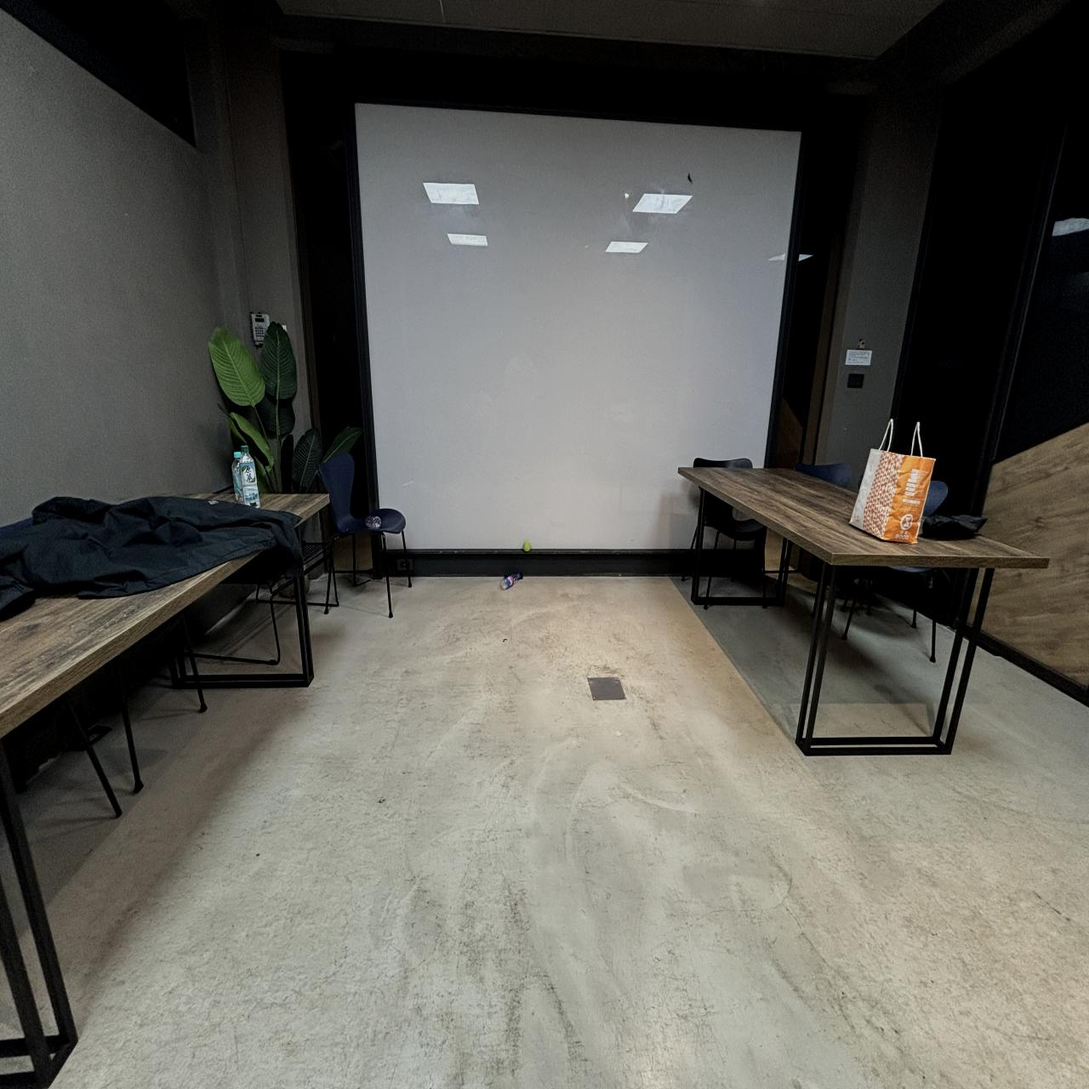plastic-bottle: (239, 445, 260, 507), (231, 451, 242, 502)
tennisball: (522, 540, 531, 552)
